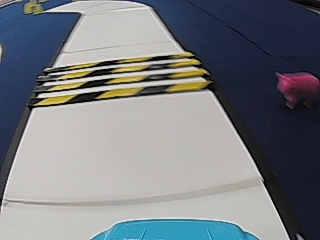bump: (43, 53, 192, 108)
